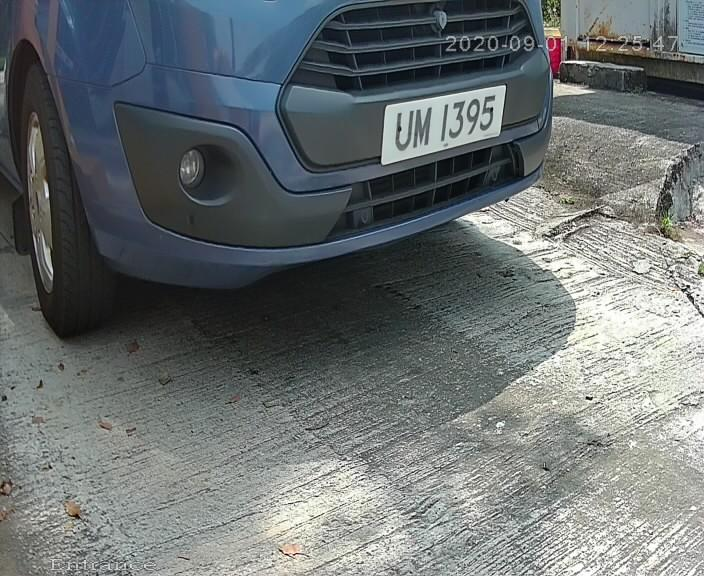License Plate: (375, 78, 510, 173)
